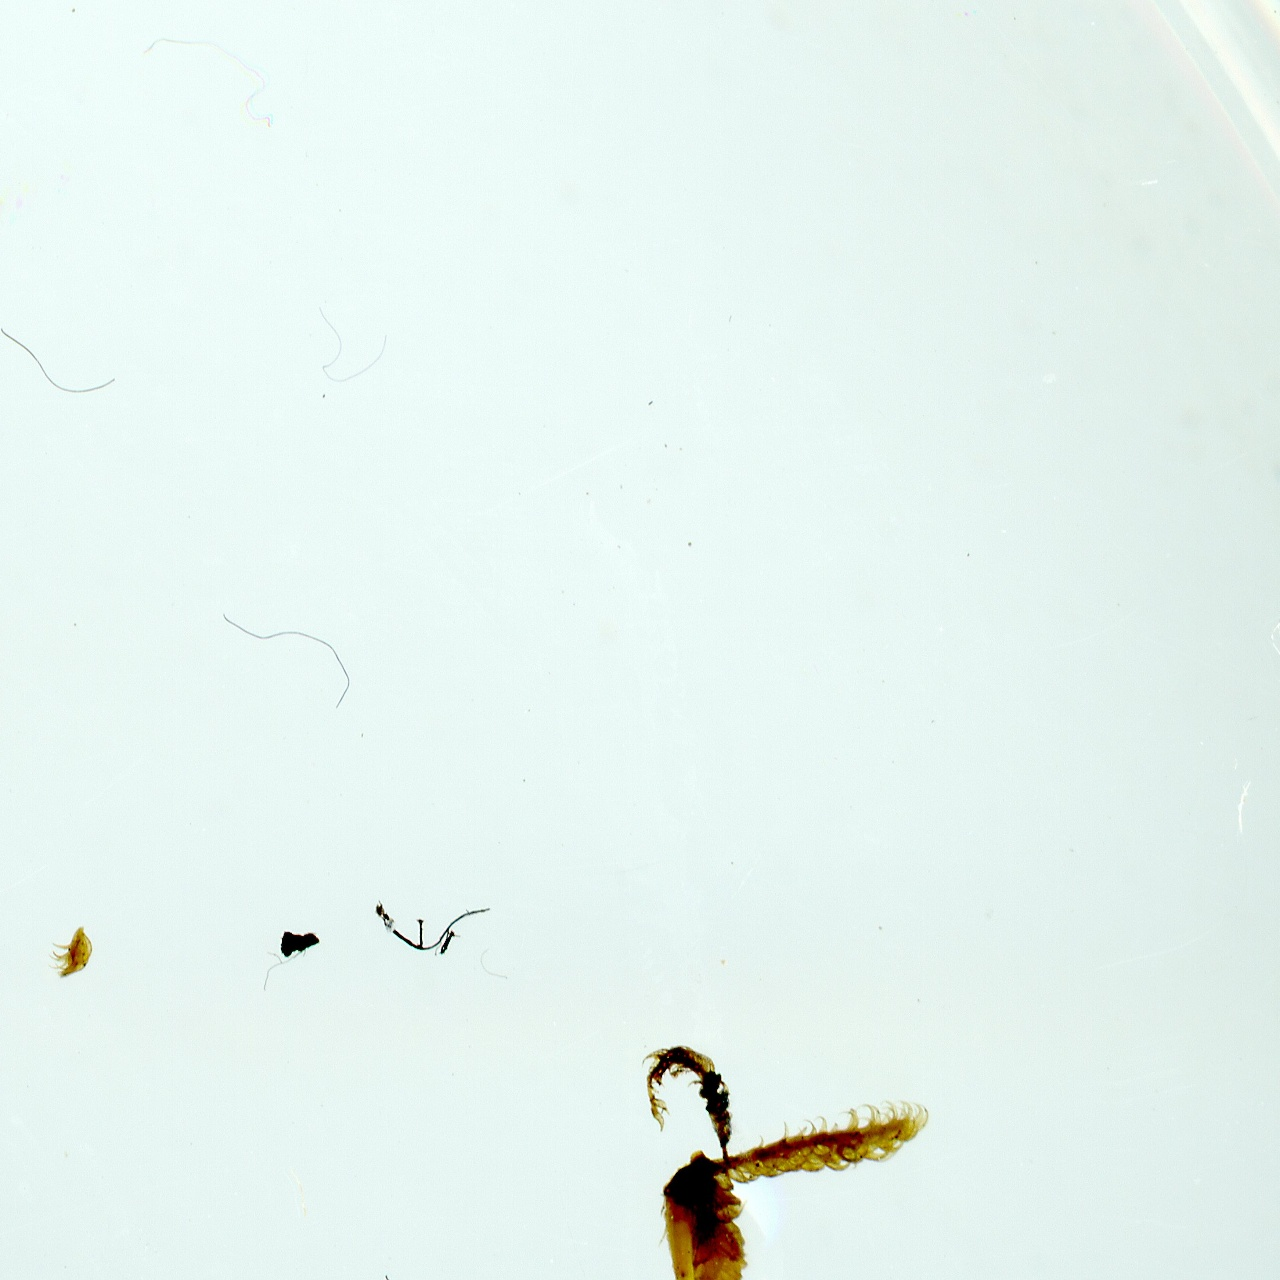arthropod: (48, 922, 97, 982)
